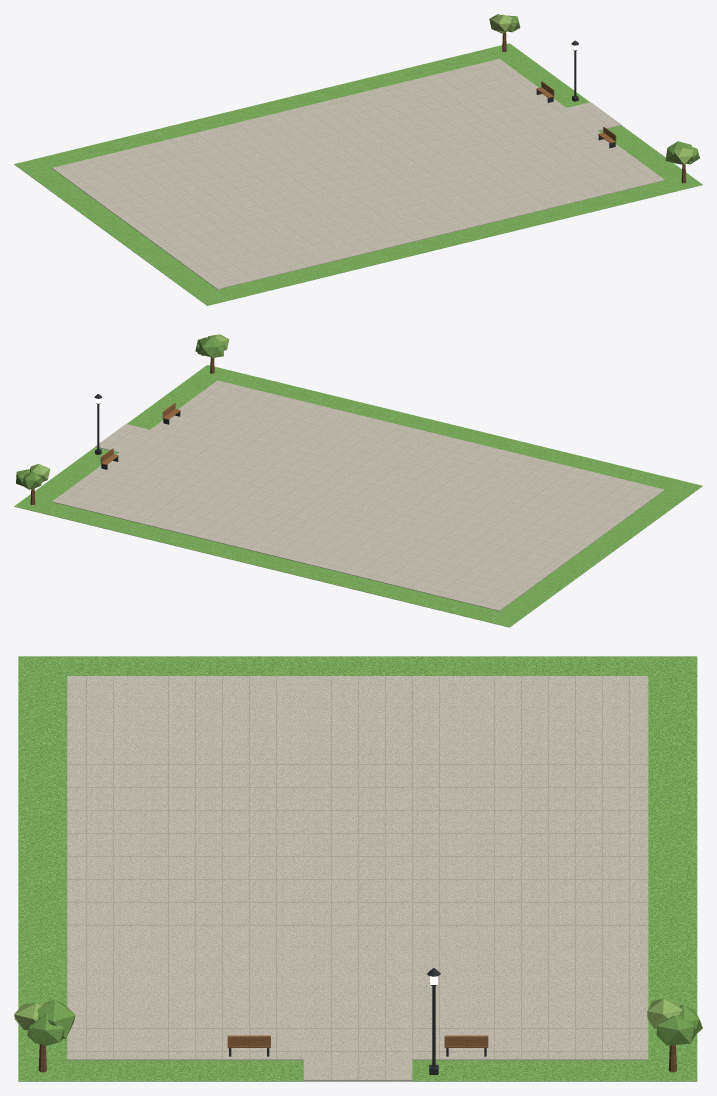
The model's file is sports_climbing.glb.
3 renders of one model, top to bottom at view 1: azimuth 30°, elevation 25°; view 2: azimuth 150°, elevation 25°; view 3: azimuth 270°, elevation 25°, orthographic. The views are drawn at different scales.
Visible parts, largest first — view 1: SCl_Apron, SCl_Lawn0, SCl_Bench0, SCl_Tree0_Leaf1, SCl_Tree0_Leaf0; view 2: SCl_Apron, SCl_Lawn0, SCl_Tree0_Leaf0, SCl_Bench0; view 3: SCl_Apron, SCl_Lawn0, SCl_Tree0_Leaf0, SCl_Bench0, SCl_Tree0_Leaf1.
Boxes of the visible parts, x1=… form: SCl_Apron: x1=52, y1=58, x2=664, y2=289; SCl_Lawn0: x1=14, y1=43, x2=702, y2=305; SCl_Bench0: x1=536, y1=40, x2=616, y2=148; SCl_Tree0_Leaf1: x1=491, y1=14, x2=693, y2=164; SCl_Tree0_Leaf0: x1=489, y1=14, x2=699, y2=164; SCl_Apron: x1=52, y1=380, x2=664, y2=611; SCl_Lawn0: x1=14, y1=365, x2=702, y2=627; SCl_Tree0_Leaf0: x1=16, y1=336, x2=224, y2=489; SCl_Bench0: x1=94, y1=394, x2=180, y2=469; SCl_Apron: x1=67, y1=676, x2=648, y2=1081; SCl_Lawn0: x1=18, y1=656, x2=697, y2=1081; SCl_Tree0_Leaf0: x1=27, y1=999, x2=702, y2=1045; SCl_Bench0: x1=227, y1=968, x2=488, y2=1074; SCl_Tree0_Leaf1: x1=14, y1=999, x2=681, y2=1030.
Size of the model in its own units: 37.19 by 4.27 by 25.37.
8 materials, 7 textured.
